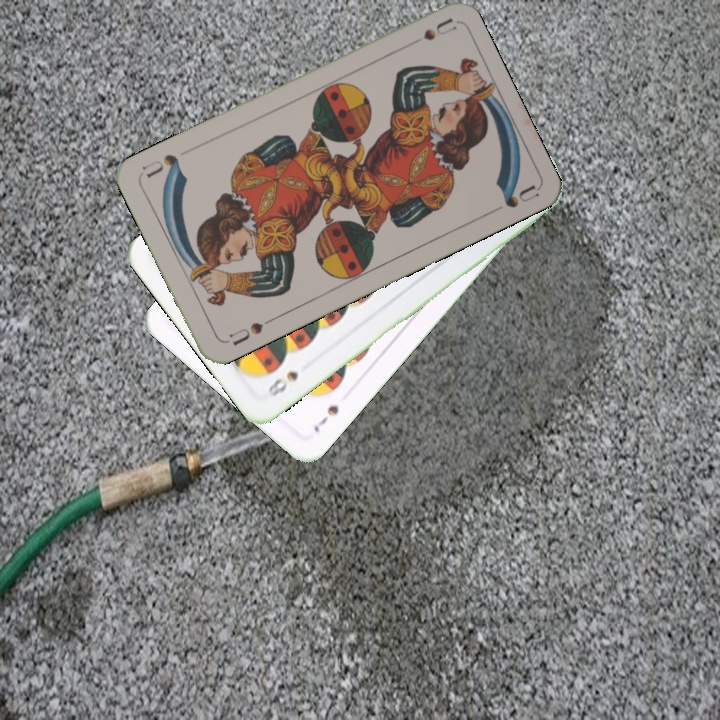S7: (309, 401, 342, 435)
S8: (263, 367, 301, 400)
SU: (400, 14, 458, 51), (221, 313, 277, 348)
